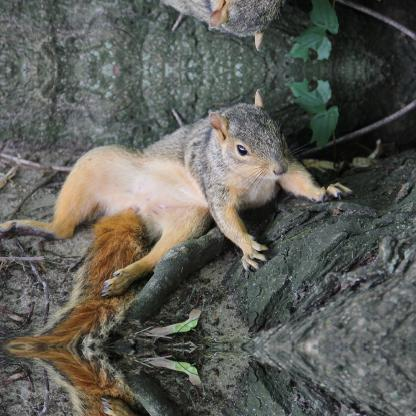Squirrel: (0, 87, 352, 297), (0, 0, 353, 52)
